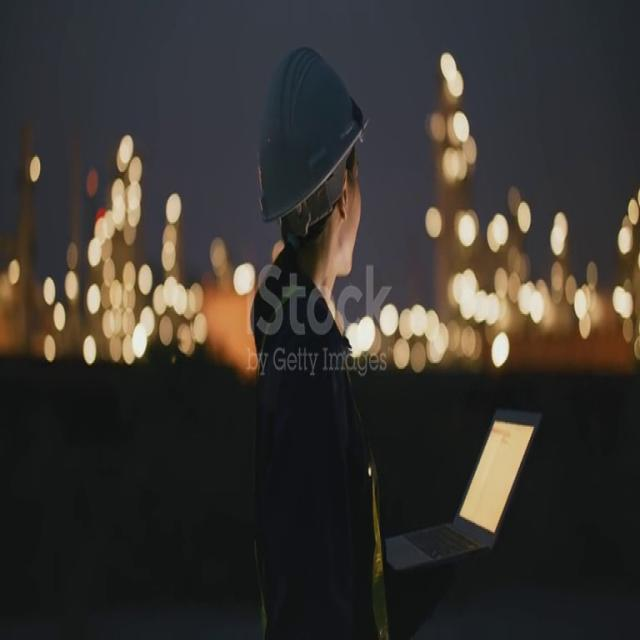capacete: (243, 39, 383, 241)
